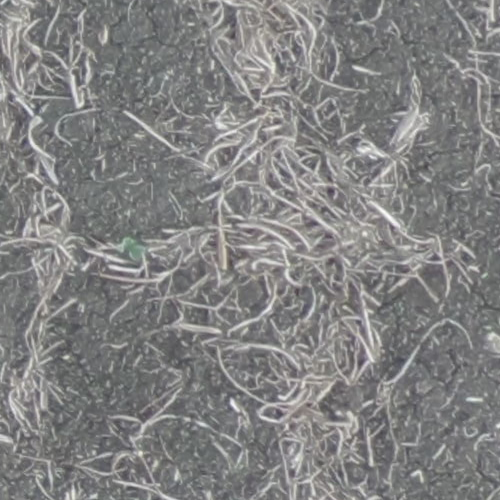isolated: (121, 236, 146, 262)
